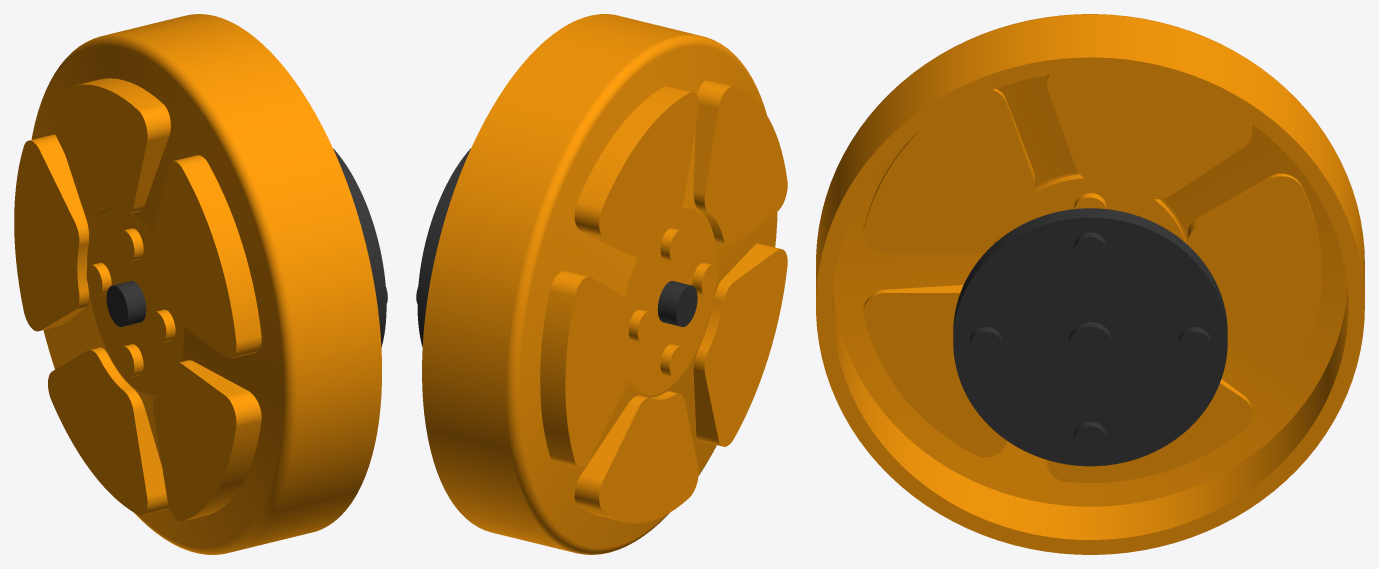
File: assembly.glb
The picture shows the model from 3 angles, left to right: view 1: azimuth 30°, elevation 25°; view 2: azimuth 150°, elevation 25°; view 3: azimuth 270°, elevation 25°; orthographic projection. The views are drawn at different scales.
Visible parts, largest first — view 1: bell, stator-hub, shaft; view 2: bell, stator-hub, shaft; view 3: bell, stator-hub.
Part boxes in pixels (x1,y1,x2,y2): bell: [14, 14, 381, 554]; stator-hub: [333, 148, 387, 347]; shaft: [106, 281, 146, 326]; bell: [422, 14, 787, 554]; stator-hub: [416, 148, 470, 346]; shaft: [657, 281, 697, 326]; bell: [816, 14, 1364, 554]; stator-hub: [953, 208, 1227, 466].
Size of the model in its own units: 0.023 by 0.05 by 0.05.
